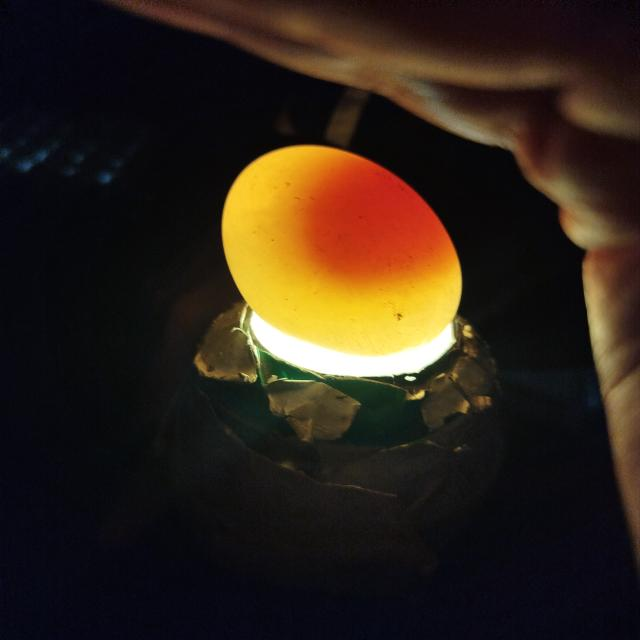Gema Quebrada: (303, 157, 451, 291)
